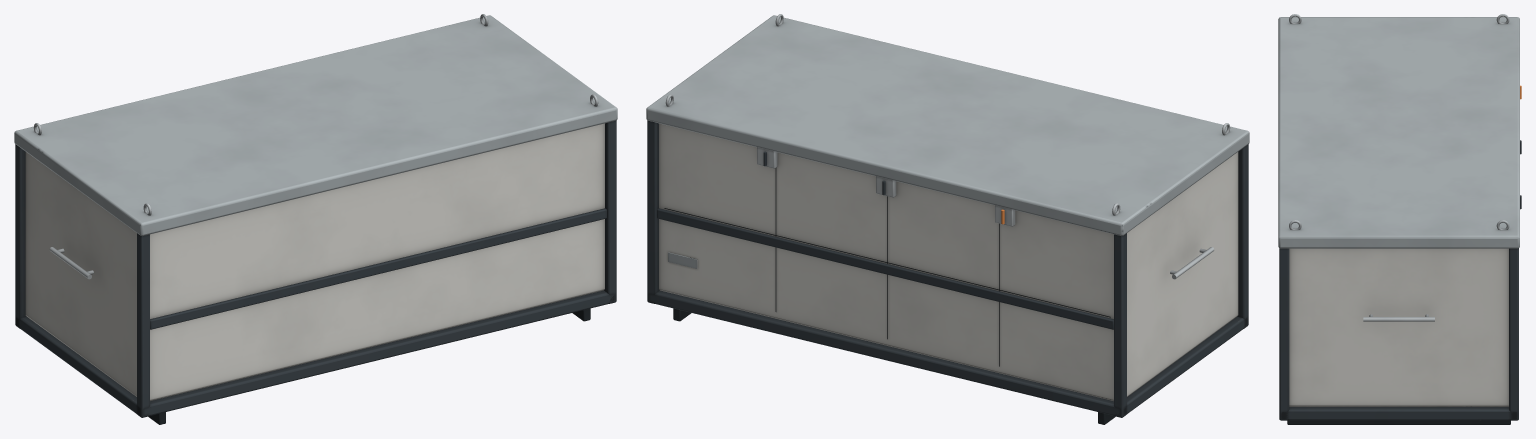
Rendered from precursor_crate_long.glb.
3 views of the same model, side by side, from view 1: azimuth 30°, elevation 25°; view 2: azimuth 150°, elevation 25°; view 3: azimuth 270°, elevation 25° (orthographic). The views are drawn at different scales.
Parts seen in each view (by area): view 1: body_shell_white, lid_panel_cool, base_frame_graphite, rail_b_frame_graphite, post_lb_frame_graphite, post_rb_frame_graphite, post_lf_frame_graphite; view 2: body_shell_white, lid_panel_cool, base_frame_graphite, rail_f_frame_graphite, post_lf_frame_graphite, post_rf_frame_graphite, post_lb_frame_graphite, front_seams_deep_graphite; view 3: lid_panel_cool, body_shell_white, base_frame_graphite, post_rb_frame_graphite, post_rf_frame_graphite, skid_r_deep_graphite, end_handle_r_satin_alloy.
Boxes of the visible parts, <box> form: body_shell_white: <box>25,123,604,400</box>; lid_panel_cool: <box>14,15,617,235</box>; base_frame_graphite: <box>16,290,613,416</box>; rail_b_frame_graphite: <box>150,208,606,329</box>; post_lb_frame_graphite: <box>137,233,149,417</box>; post_rb_frame_graphite: <box>604,120,616,303</box>; post_lf_frame_graphite: <box>15,144,26,328</box>; body_shell_white: <box>659,123,1238,400</box>; lid_panel_cool: <box>646,15,1249,235</box>; base_frame_graphite: <box>648,290,1246,415</box>; rail_f_frame_graphite: <box>657,208,1113,329</box>; post_lf_frame_graphite: <box>1114,233,1126,417</box>; post_rf_frame_graphite: <box>647,120,659,303</box>; post_lb_frame_graphite: <box>1237,144,1248,328</box>; front_seams_deep_graphite: <box>664,168,1110,366</box>; lid_panel_cool: <box>1278,17,1519,248</box>; body_shell_white: <box>1289,248,1508,406</box>; base_frame_graphite: <box>1281,407,1516,420</box>; post_rb_frame_graphite: <box>1279,248,1289,420</box>; post_rf_frame_graphite: <box>1509,248,1518,420</box>; skid_r_deep_graphite: <box>1287,420,1510,424</box>; end_handle_r_satin_alloy: <box>1363,314,1434,321</box>.
Bounding box in the file's own units: 2.7 × 1.15 × 1.22.
Materials: 2 (1 with a texture image).
